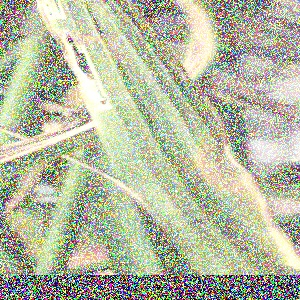Leaf_Blast: (146, 128, 268, 275)
